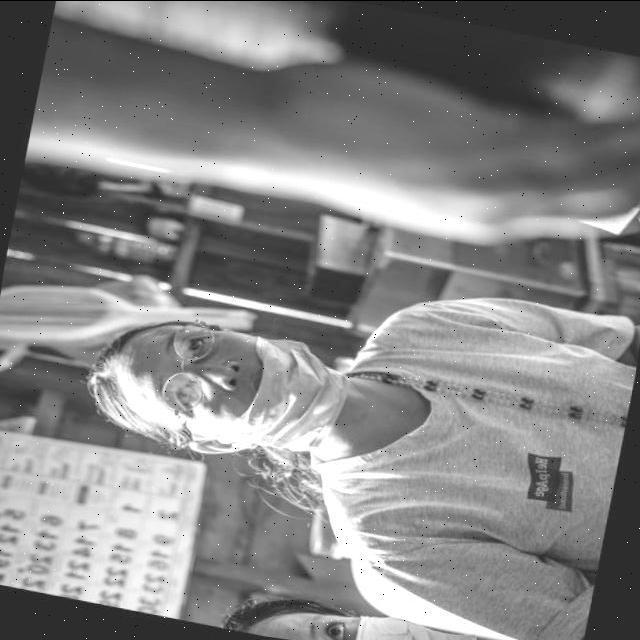no_gloves: (90, 326, 160, 431)
